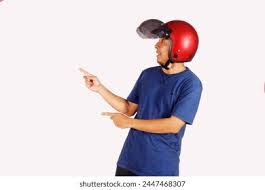helmets: (133, 14, 201, 72)
